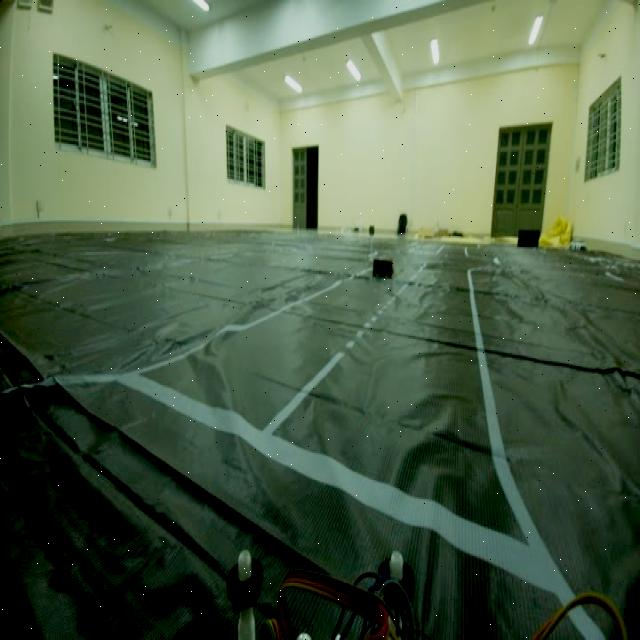roadblock: (369, 254, 395, 285)
